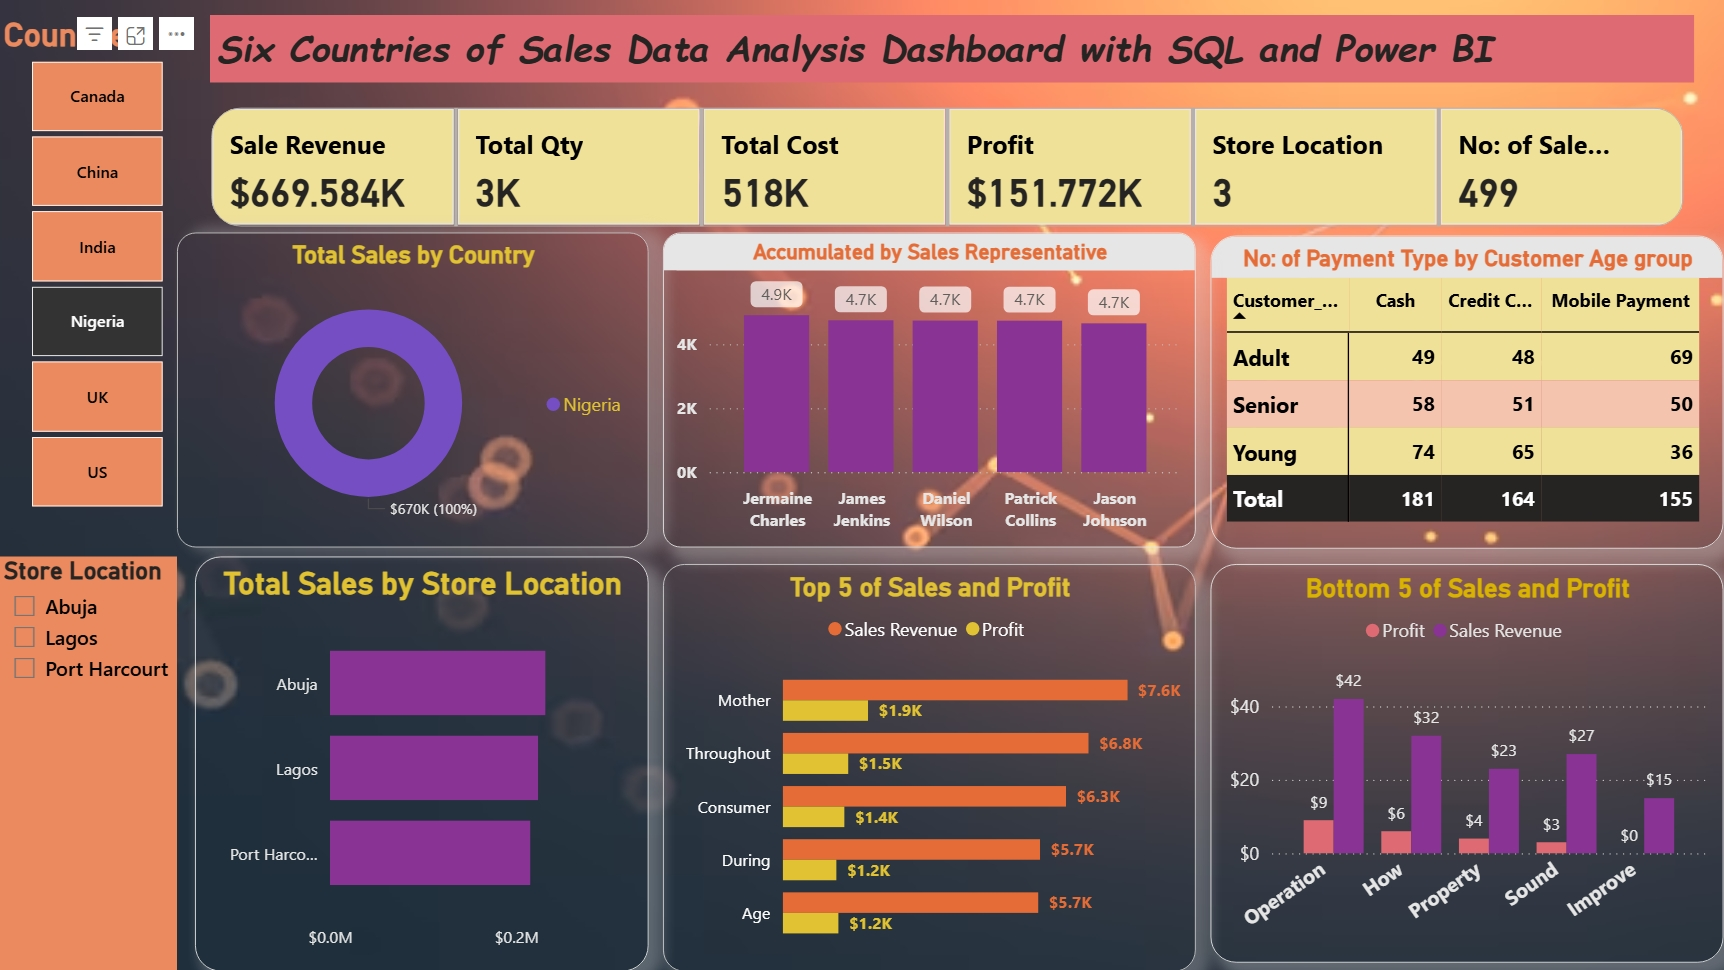

This screenshot's page, from the dashboard's own definition file:
{"tool":"powerbi","page":{"name":"Page 1","canvas":[1280,720],"ordinal":0},"visuals":[{"type":"slicer","title":"Countries","fields":{"Values":["6countriessaledatabase allsalesdata.Country"]},"box":[0,10.6,146.9,371],"z":0},{"type":"cardVisual","fields":{"Data":["Measurement.Total Sales","Measurement.TotalQty","Sum(6countriessaledatabase allsalesdata.TotalCost)","Sum(6countriessaledatabase allsalesdata.Profit)","Count(6countriessaledatabase allsalesdata.Store_Location)","Count(6countriessaledatabase allsalesdata.Sales_Rep)"]},"box":[133.3,74.2,1146.3,98.4],"z":1000},{"type":"slicer","title":"Store Location","fields":{"Values":["6countriessaledatabase allsalesdata.Store_Location"]},"box":[0,411.9,133.3,307.4],"z":2000},{"type":"donutChart","fields":{"Category":["6countriessaledatabase allsalesdata.Country"],"Y":["Measurement.Total Sales"]},"box":[132.9,172.7,349.3,233.5],"z":3000},{"type":"pivotTable","title":"No: of Payment Type by Customer Age group","fields":{"Rows":["6countriessaledatabase allsalesdata.Customer_Age_Group"],"Columns":["6countriessaledatabase allsalesdata.Payment_Method"],"Values":["CountNonNull(6countriessaledatabase allsalesdata.Payment_Method)"]},"box":[899.4,174.1,380.1,231.7],"z":4000},{"type":"clusteredBarChart","title":"Top 5 of Sales and Profit","fields":{"Category":["6countriessaledatabase allsalesdata.Product_Name"],"Y":["Measurement.Total Sales","Sum(6countriessaledatabase allsalesdata.Profit)"]},"box":[493.5,417.6,394.8,301.8],"z":5000},{"type":"clusteredColumnChart","title":"Bottom 5 of Sales and Profit","fields":{"Category":["6countriessaledatabase allsalesdata.Product_Name"],"Y":["Sum(6countriessaledatabase allsalesdata.Profit)","Measurement.Total Sales"]},"box":[899.4,417.9,380.1,295.3],"z":6000},{"type":"barChart","title":"Total Sales by Store Location","fields":{"Category":["6countriessaledatabase allsalesdata.Store_Location"],"Y":["Measurement.Total Sales"]},"box":[146.2,411.9,336,307.5],"z":7000},{"type":"lineStackedColumnComboChart","title":"Accumulated by Sales Representative","fields":{"Category":["6countriessaledatabase allsalesdata.Sales_Rep"],"Y":["Measurement.Total YTD"]},"box":[493.5,172.7,394.8,233.5],"z":8000},{"type":"textbox","box":[157.5,10.6,1099.3,50],"z":9000}]}

Visuals, with their boxes in screenshot pixels (x1, y1, x2, y2):
"Countries" slicer: l=0, t=10, r=175, b=521
cardVisual - Measurement.Total Sales x Measurement.TotalQty: l=157, t=98, r=1723, b=233
"Store Location" slicer: l=0, t=563, r=157, b=969
donutChart - 6countriessaledatabase allsalesdata.Country x Measurement.Total Sales: l=156, t=233, r=637, b=555
"No: of Payment Type by Customer Age group" pivotTable: l=1212, t=235, r=1723, b=554
"Top 5 of Sales and Profit" clusteredBarChart: l=653, t=571, r=1196, b=969
"Bottom 5 of Sales and Profit" clusteredColumnChart: l=1212, t=571, r=1723, b=969
"Total Sales by Store Location" barChart: l=174, t=563, r=637, b=969
"Accumulated by Sales Representative" lineStackedColumnComboChart: l=653, t=233, r=1196, b=555
textbox: l=190, t=10, r=1704, b=79
